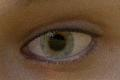eye: (40, 29, 73, 59)
